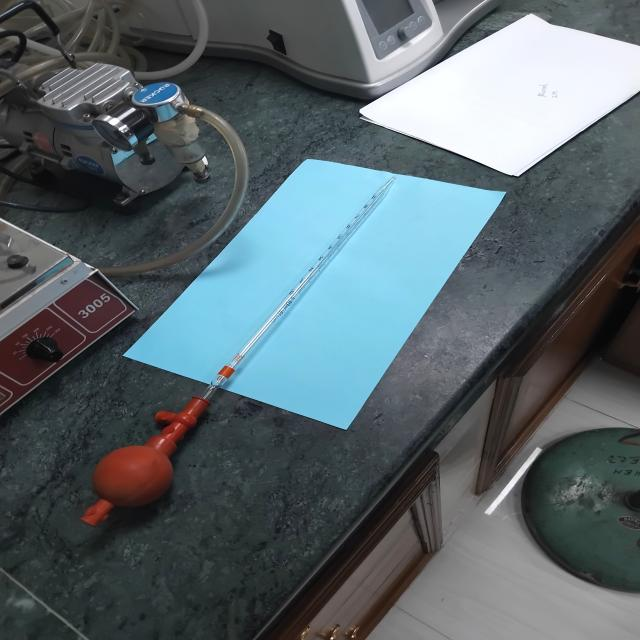Volumetric_Pipet: (31, 148, 481, 605)
